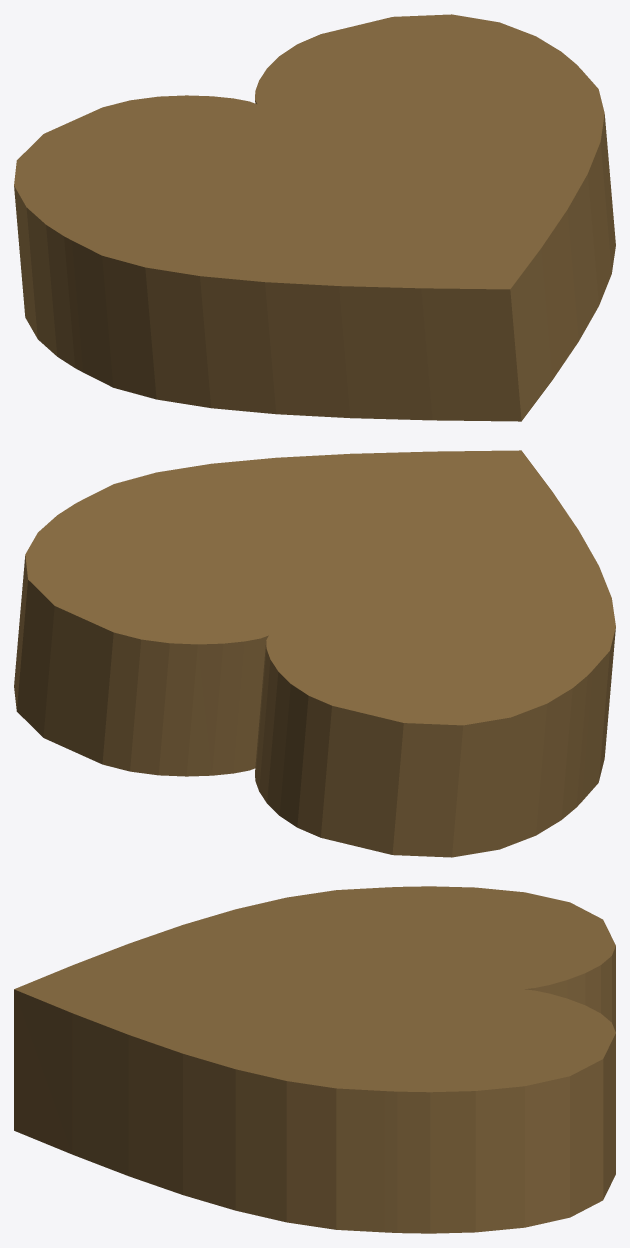
The model's file is VUC.glb.
The picture shows the model from 3 angles, top to bottom: view 1: azimuth 30°, elevation 25°; view 2: azimuth 150°, elevation 25°; view 3: azimuth 270°, elevation 25°; orthographic projection.
Parts seen in each view (by area): view 1: Mesh_Mesh_head_geo.001_lambert2SG.001; view 2: Mesh_Mesh_head_geo.001_lambert2SG.001; view 3: Mesh_Mesh_head_geo.001_lambert2SG.001.
Part boxes in pixels (box(x1,y1,x2,y2)): Mesh_Mesh_head_geo.001_lambert2SG.001: box(14, 14, 615, 421); Mesh_Mesh_head_geo.001_lambert2SG.001: box(14, 450, 615, 857); Mesh_Mesh_head_geo.001_lambert2SG.001: box(14, 886, 615, 1233).
Size of the model in its own units: 0.0204 by 0.00672 by 0.02.
